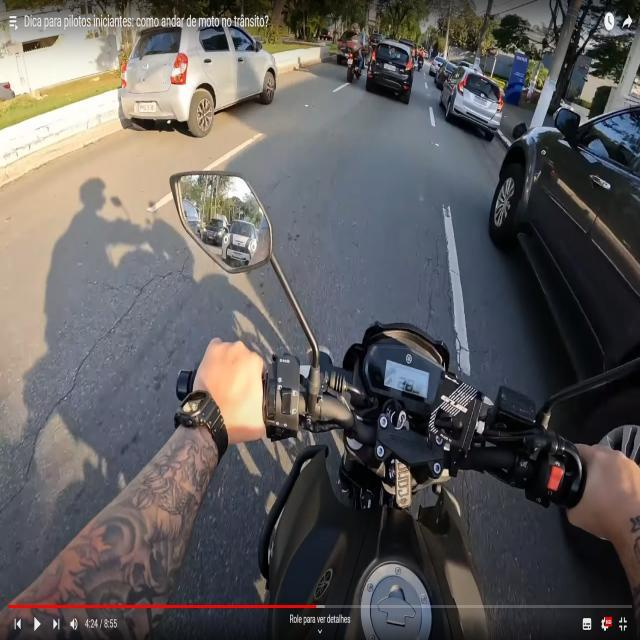Placa_mercosul_carro: (138, 102, 158, 114), (474, 94, 489, 107), (384, 64, 397, 72)
